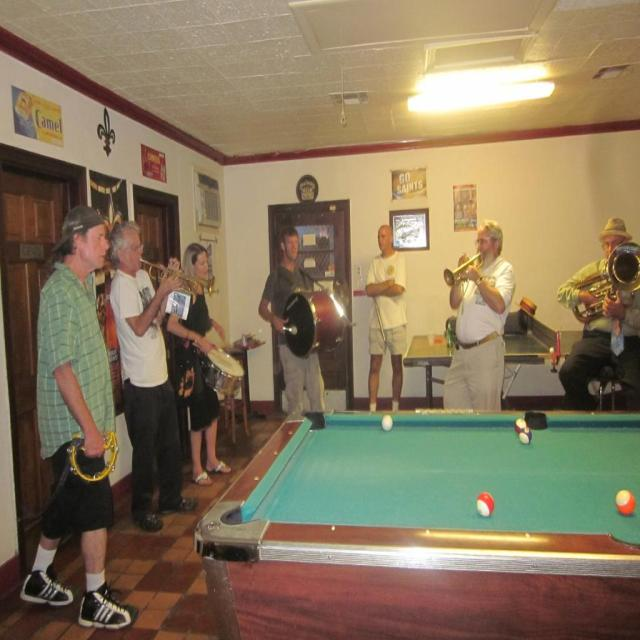Ball: (474, 492, 496, 516), (616, 490, 636, 515), (513, 416, 526, 436), (519, 427, 534, 443), (382, 415, 394, 432)
